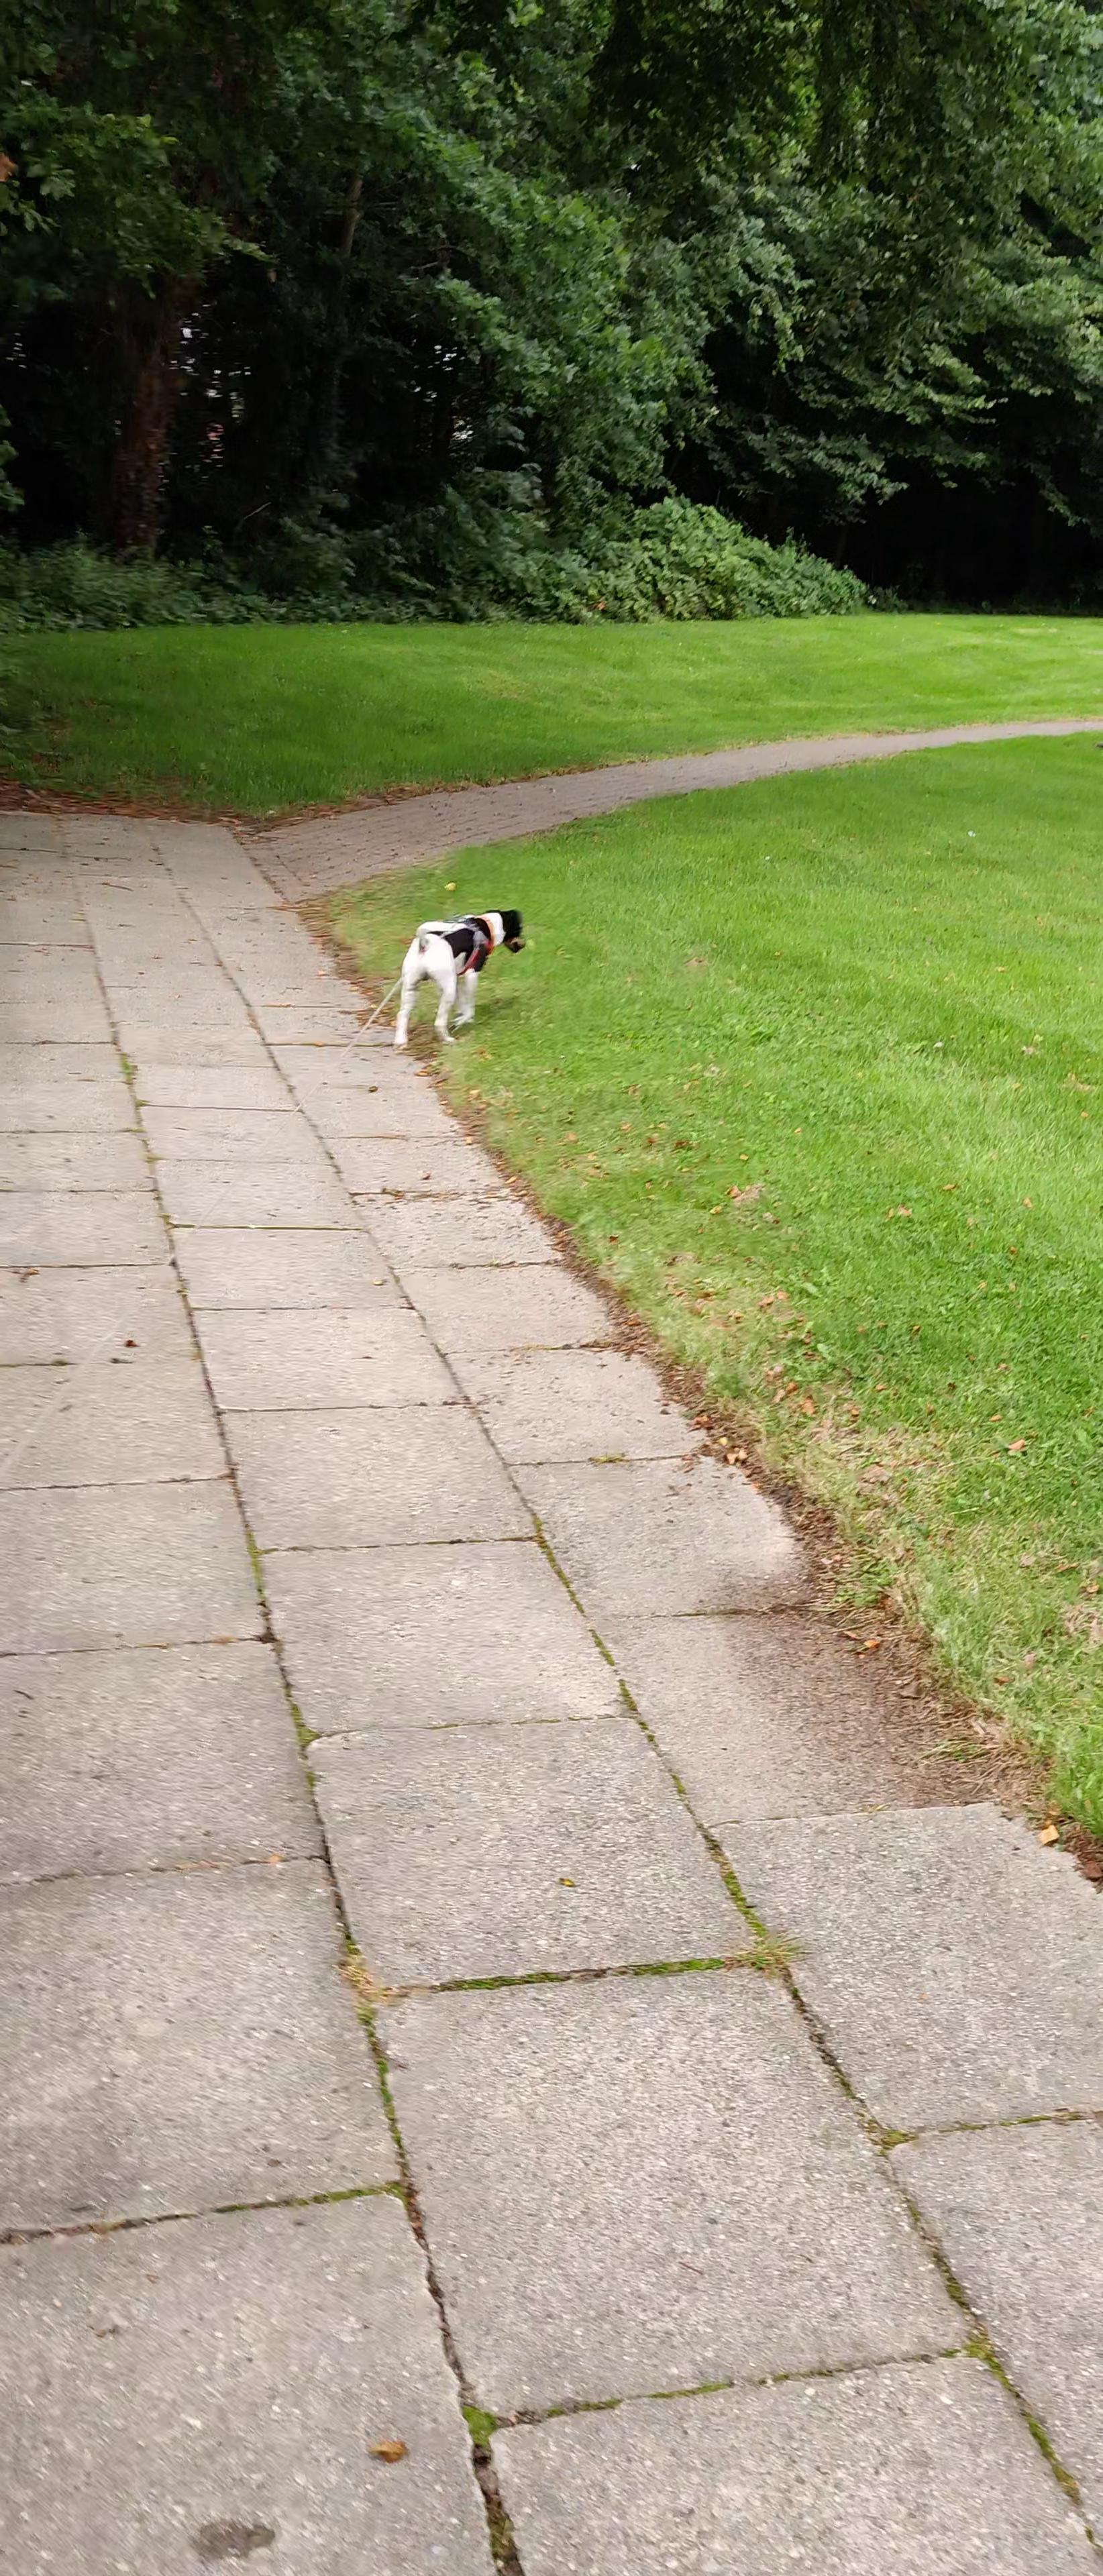Dog: (386, 894, 529, 1051)
